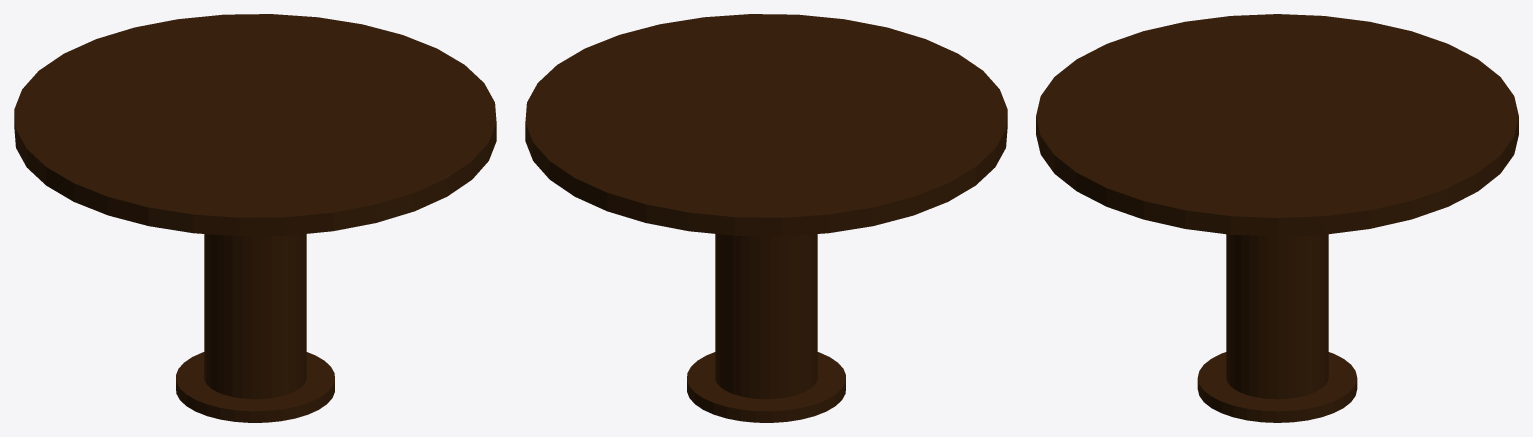
Rendered from mesagrande.fbx.
3 views of the same model, side by side, from view 1: azimuth 30°, elevation 25°; view 2: azimuth 150°, elevation 25°; view 3: azimuth 270°, elevation 25° (orthographic).
Visible parts, largest first — view 1: Cylinder.001; view 2: Cylinder.001; view 3: Cylinder.001.
Boxes of the visible parts, x1=… form: Cylinder.001: x1=14, y1=14, x2=496, y2=422; Cylinder.001: x1=525, y1=14, x2=1007, y2=422; Cylinder.001: x1=1036, y1=14, x2=1518, y2=422.
Size of the model in its own units: 0.4351 by 0.2717 by 0.4351.
